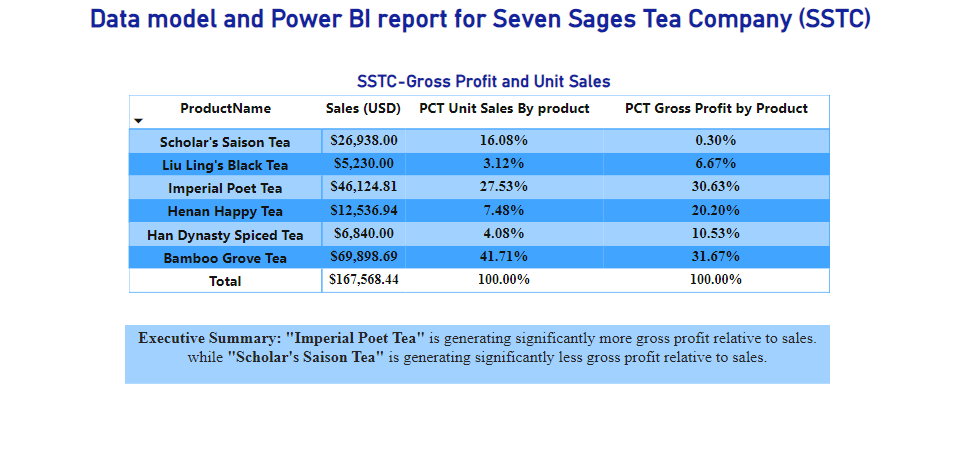

The page's visual inventory and layout, read from the dashboard file:
{"tool":"powerbi","page":{"name":"Gross Profit and Unit Sales","canvas":[1280,720],"ordinal":1},"visuals":[{"type":"pivotTable","title":"SSTC-Gross Profit and Unit Sales","fields":{"Rows":["Product.ProductName"],"Values":["Monthly Sales Logs.Sales (USD)","Monthly Sales Logs.Sales By product","Monthly Sales Logs.GP by Product"]},"box":[166.7,95,956.7,305],"z":0},{"type":"textbox","box":[166.7,433.3,940,78.3],"z":1000},{"type":"textbox","box":[0,0,1280,95],"z":2001}]}

Visuals, with their boxes on the page's 1280x720 design canvas (x1, y1, x2, y2). These are canvas units, not pixel positions in the 958x459 screenshot, which may show the page scaled, cropped or inside an application window:
"SSTC-Gross Profit and Unit Sales" pivotTable: (167,95,1123,400)
textbox: (167,433,1107,512)
textbox: (0,0,1280,95)
